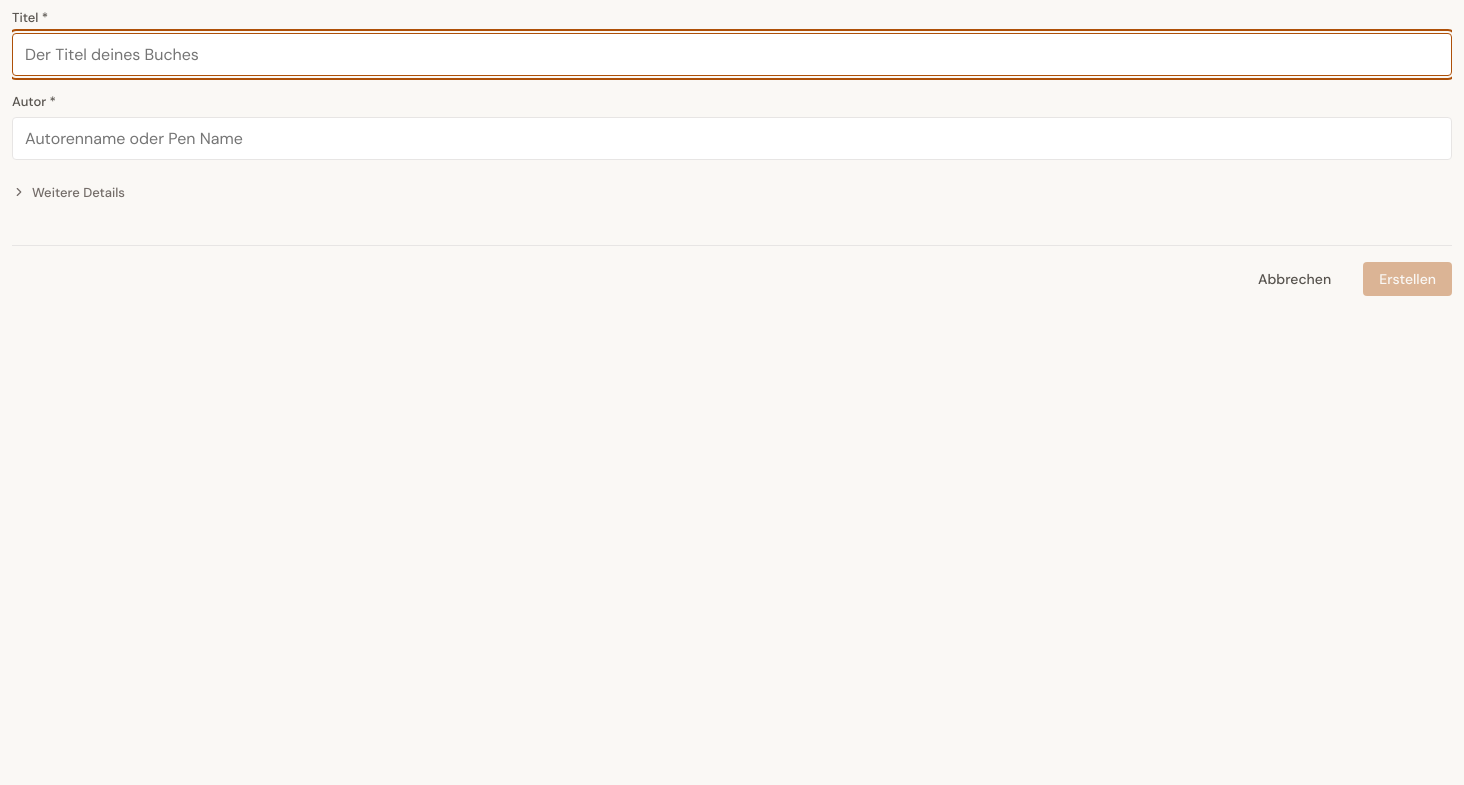
Test: CreateBookForm › series fields appear when series checkbox is checked
The width and height of the screenshot is (1464, 785).
Step 1. Click the button "Weitere Details" → (68,190), box [12, 176, 125, 205]
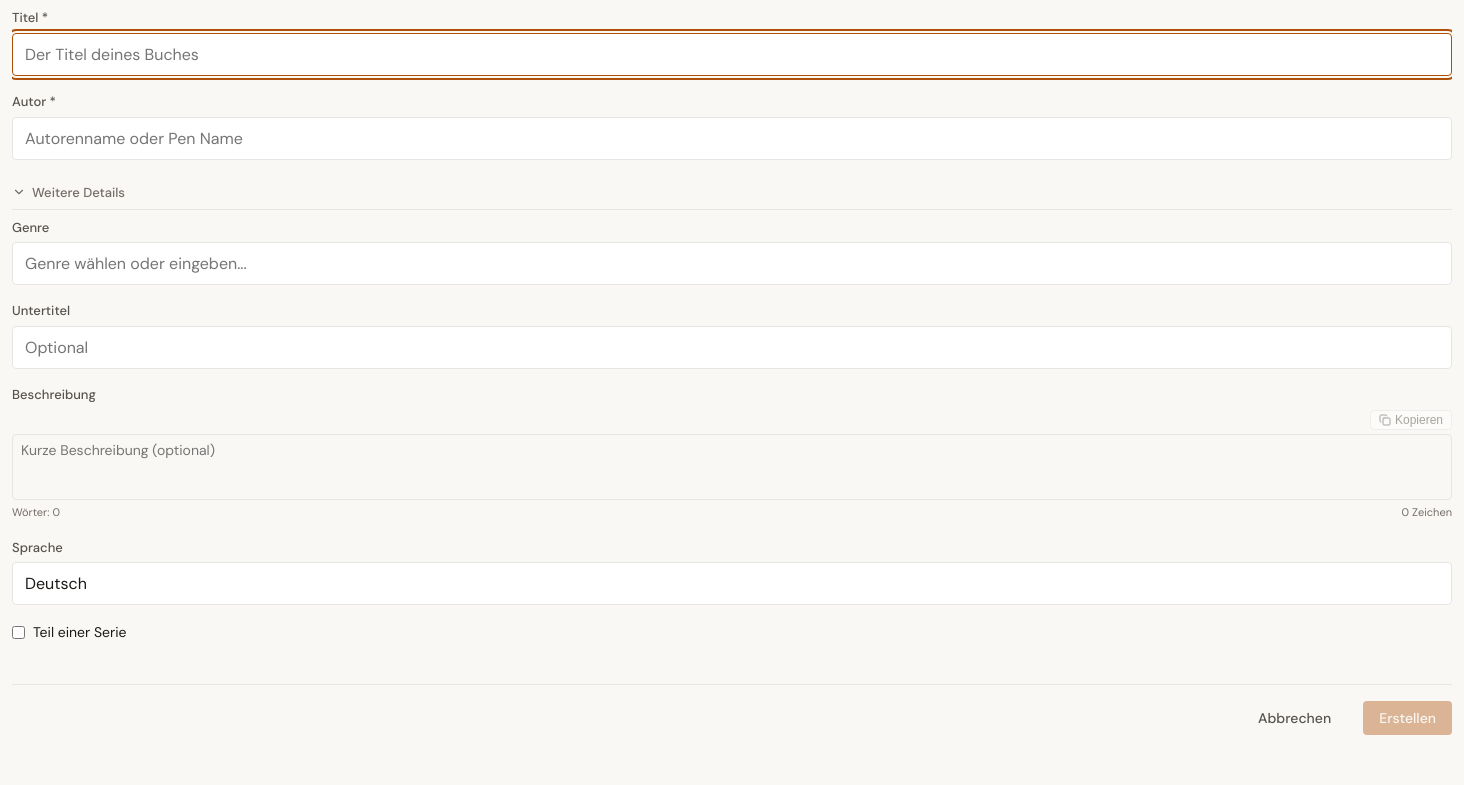
Expected: the field with placeholder "z.B. Das unsterbliche Muster" is not shown
Expected: the text "Teil einer Serie" is shown, [12, 623, 126, 641]
# Check the series checkbox
Step 2. Click the checkbox → (18,633), box [12, 626, 25, 639]
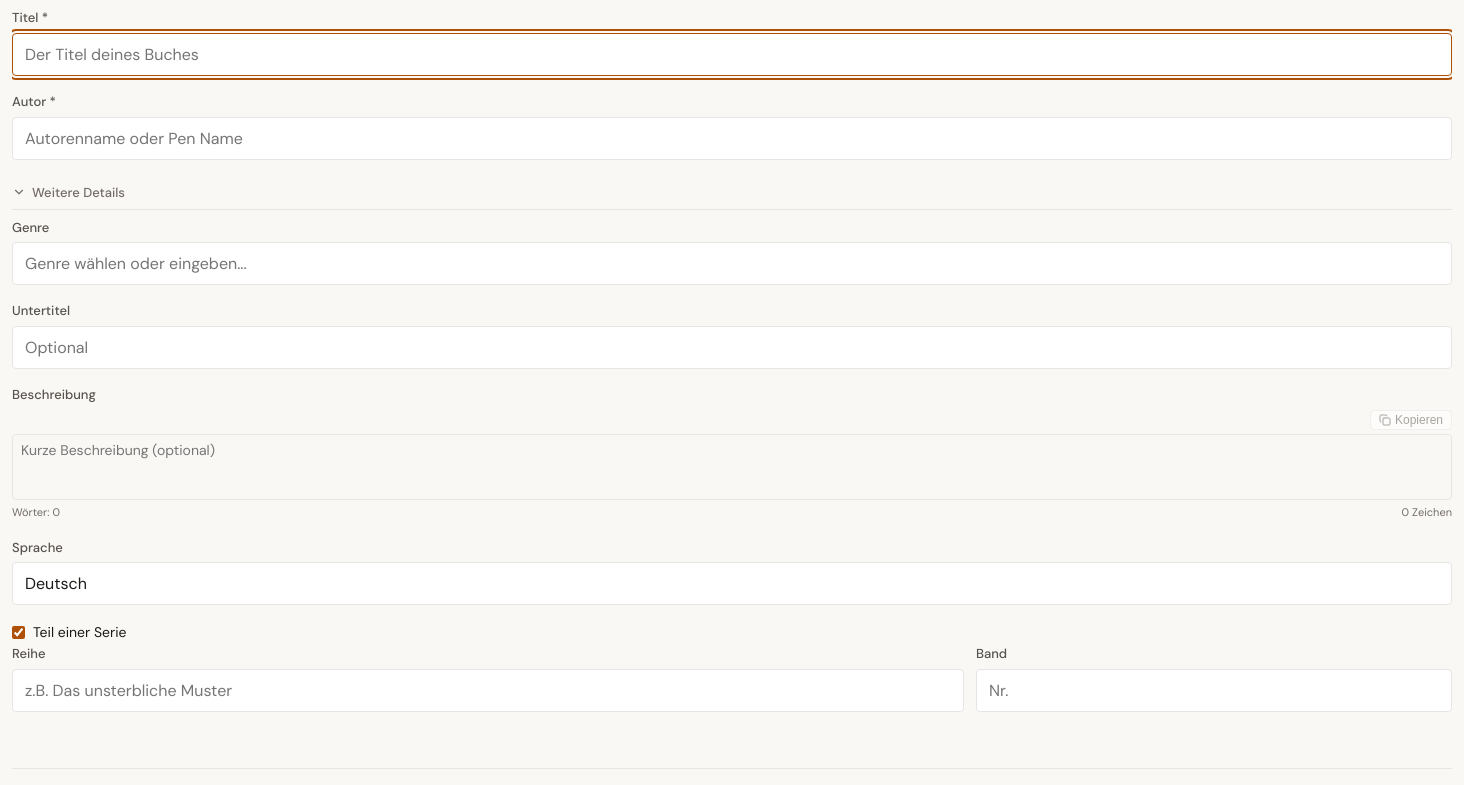
Expected: the field with placeholder "z.B. Das unsterbliche Muster" is shown, [12, 669, 964, 712]
